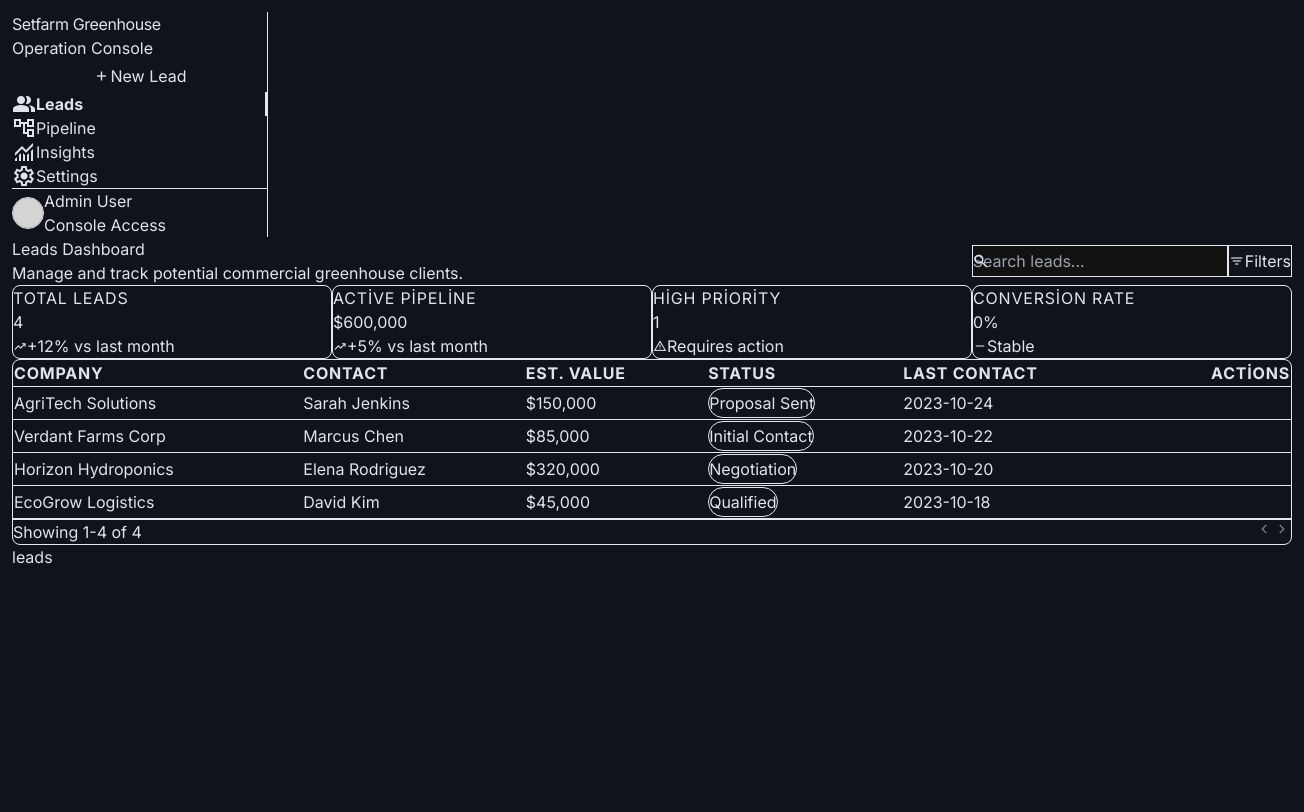
Test case: LeadsDashboard › opens lead form for new lead
Click the button "New Lead": (140, 76) [12,60,267,92]
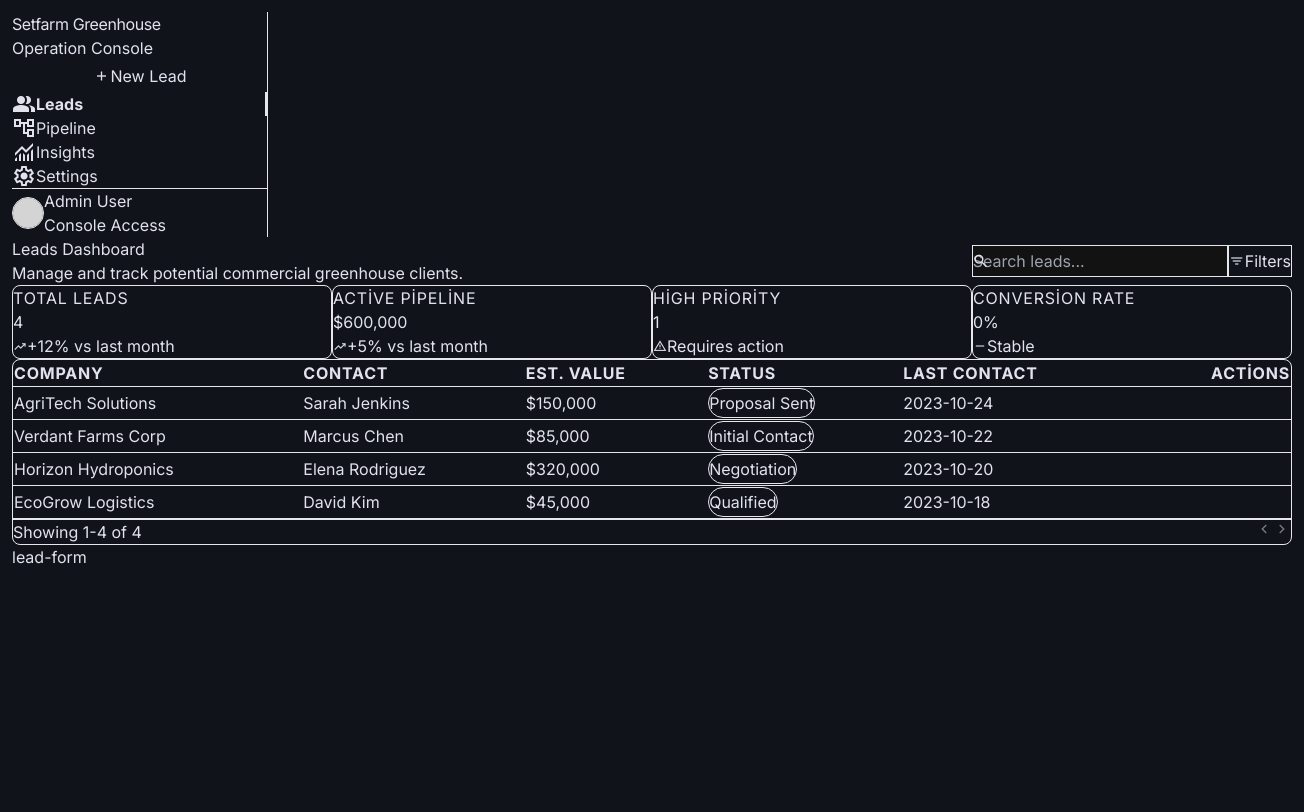
Expected: the text with test id "current-screen" reads "lead-form", [12,547,87,567]
